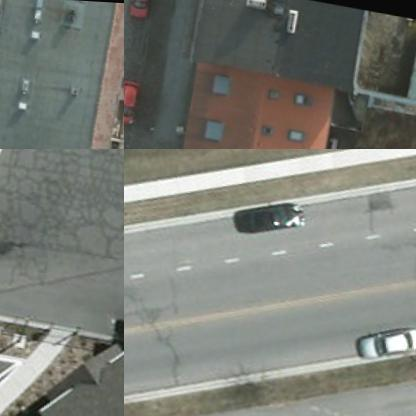car: (232, 185, 311, 243), (357, 312, 415, 364), (124, 74, 145, 121), (125, 0, 154, 17)
